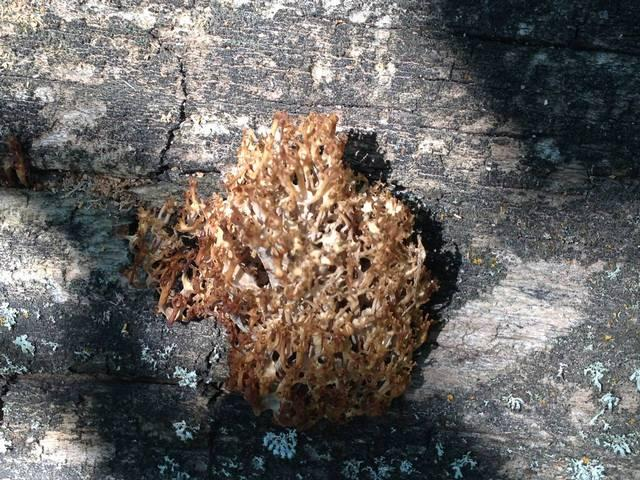edible_mushroom: (123, 108, 439, 431)
